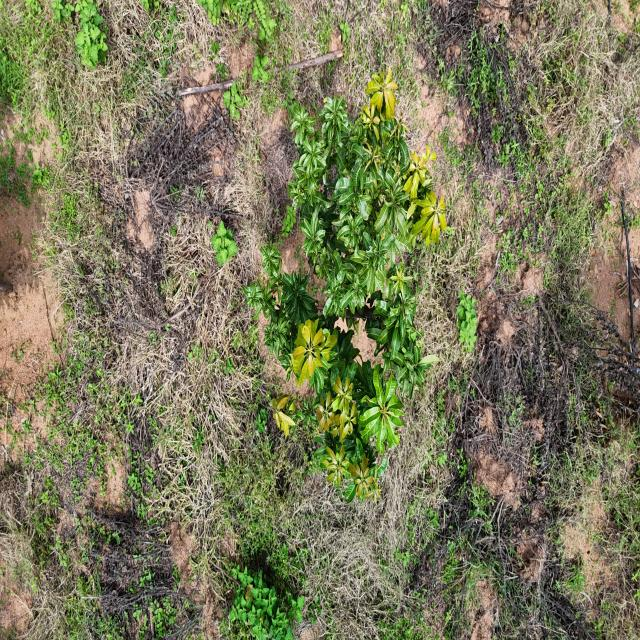mangoTree: (244, 67, 450, 505)
